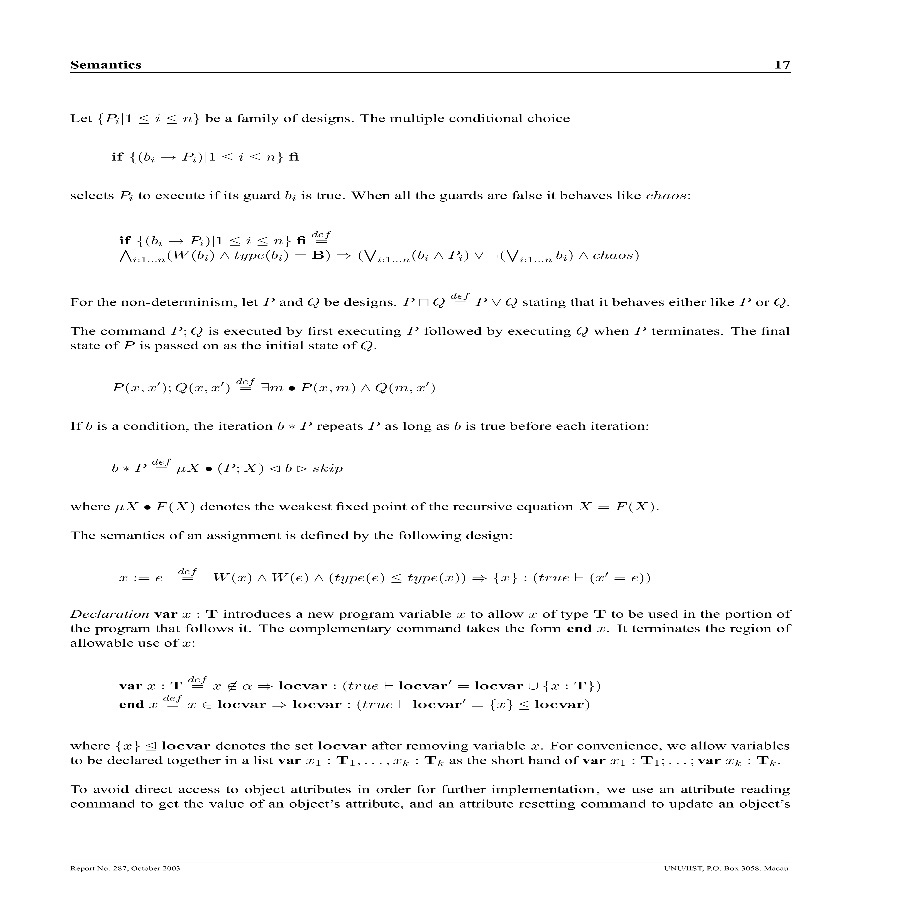eq: (116, 230, 651, 269), (112, 671, 605, 713), (114, 557, 658, 591), (107, 373, 439, 403), (104, 453, 348, 485), (109, 142, 305, 169)
